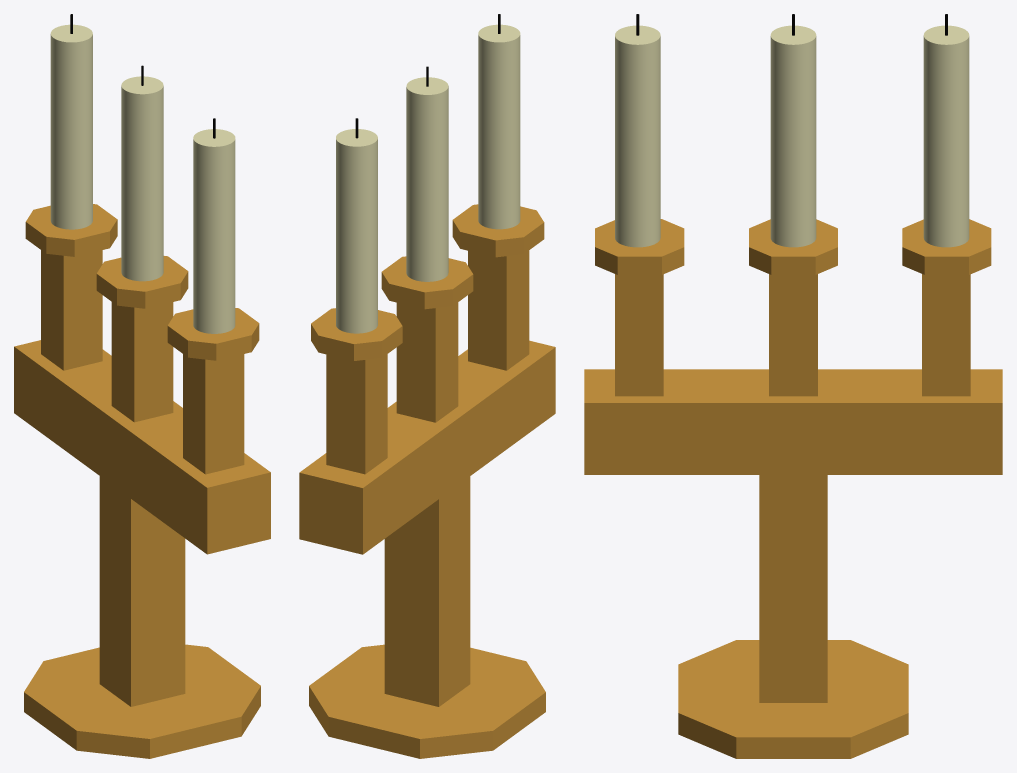
The model's file is chandelier.glb.
The picture shows the model from 3 angles, left to right: view 1: azimuth 30°, elevation 25°; view 2: azimuth 150°, elevation 25°; view 3: azimuth 270°, elevation 25°; orthographic projection. The views are drawn at different scales.
Parts seen in each view (by area): view 1: chandelier, chandelier_bougies_solo_2, chandelier_bougies_solo_3, chandelier_bougies_solo_1; view 2: chandelier, chandelier_bougies_solo_2, chandelier_bougies_solo_1, chandelier_bougies_solo_3; view 3: chandelier, chandelier_bougies_solo_2, chandelier_bougies_solo_3, chandelier_bougies_solo_1.
Part boxes in pixels (x1=…): chandelier: x1=14, y1=204, x2=270, y2=758; chandelier_bougies_solo_2: x1=121, y1=65, x2=163, y2=281; chandelier_bougies_solo_3: x1=50, y1=14, x2=92, y2=229; chandelier_bougies_solo_1: x1=193, y1=118, x2=235, y2=333; chandelier: x1=299, y1=204, x2=555, y2=758; chandelier_bougies_solo_2: x1=406, y1=66, x2=448, y2=281; chandelier_bougies_solo_1: x1=478, y1=14, x2=520, y2=229; chandelier_bougies_solo_3: x1=336, y1=118, x2=377, y2=333; chandelier: x1=584, y1=219, x2=1002, y2=758; chandelier_bougies_solo_2: x1=770, y1=14, x2=816, y2=247; chandelier_bougies_solo_3: x1=923, y1=14, x2=969, y2=247; chandelier_bougies_solo_1: x1=615, y1=14, x2=660, y2=247.
Size of the model in its own units: 0.2608 by 0.8684 by 0.473.
3 materials, 1 textured.
